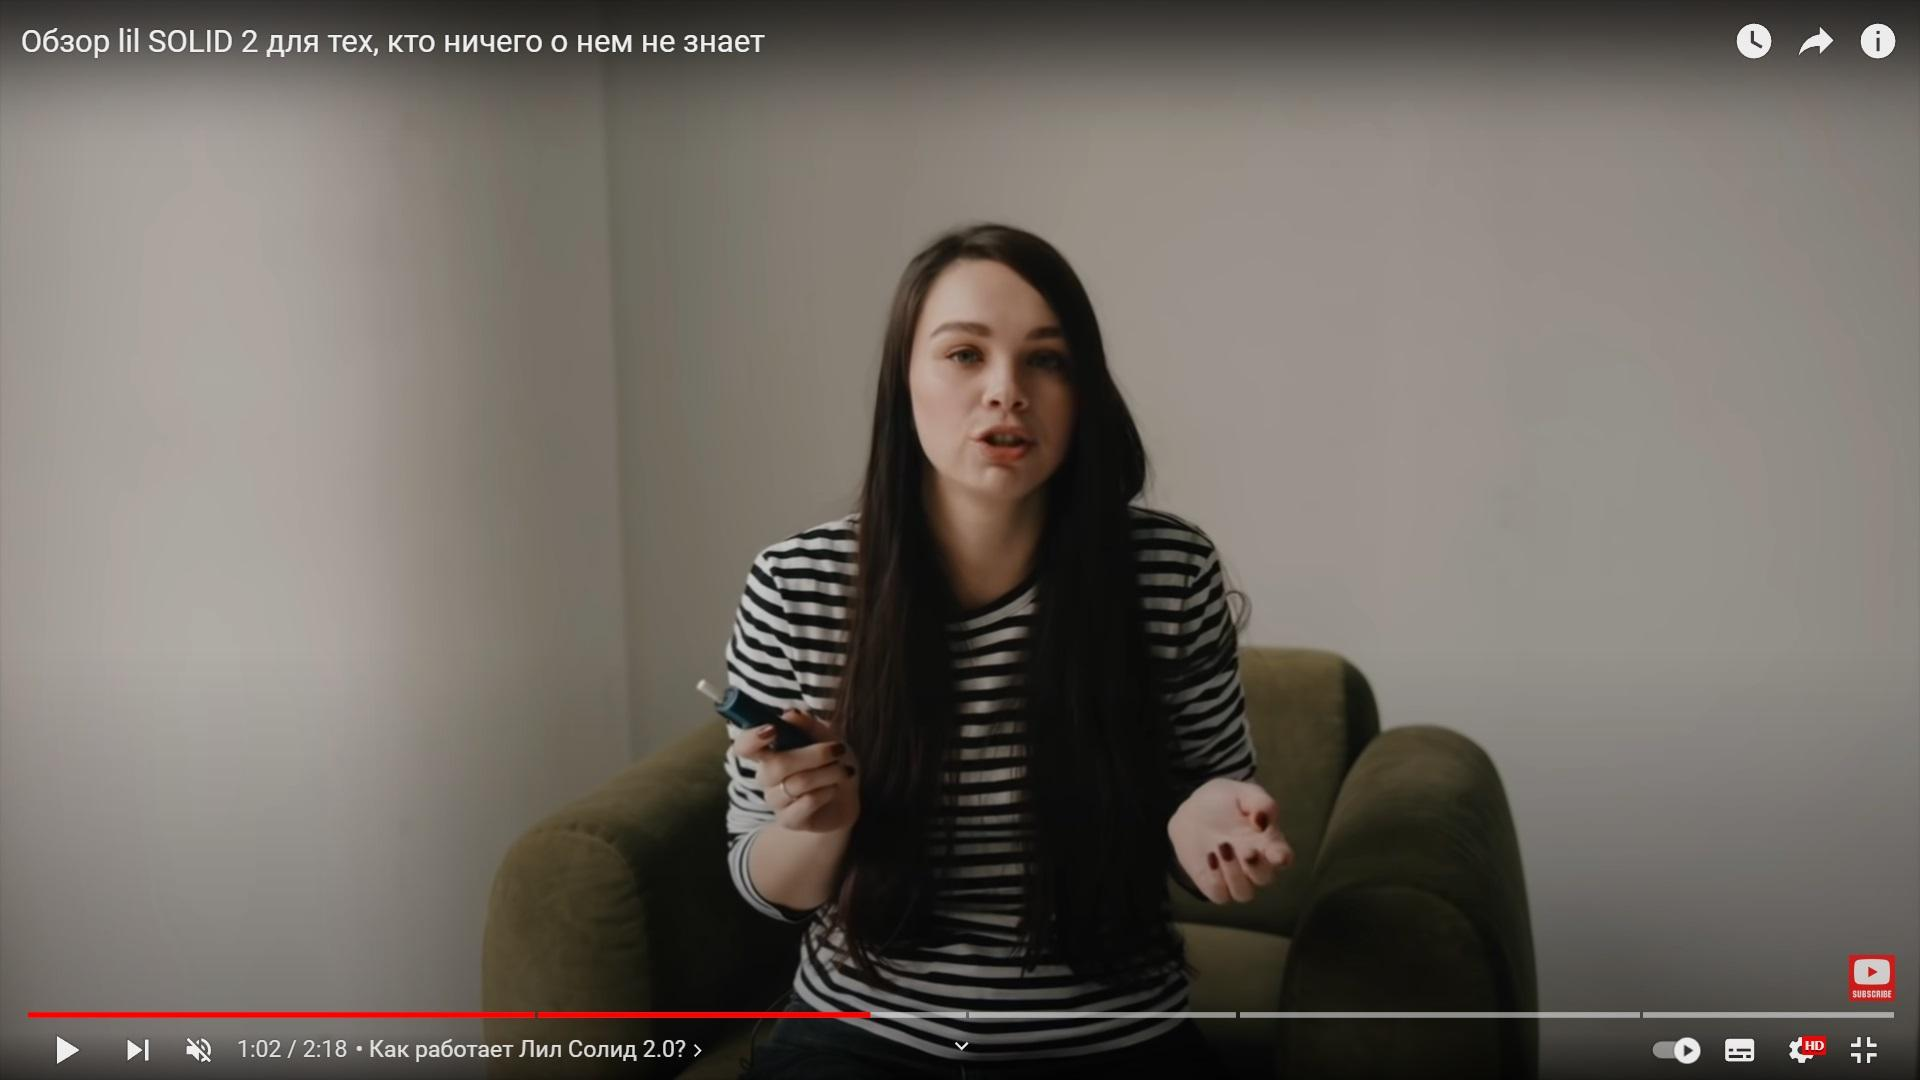iqos: (696, 678, 823, 752)
